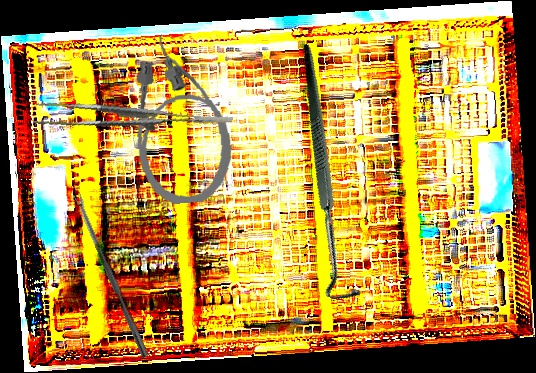Cannula: (127, 29, 237, 207)
Hook Surgical: (223, 43, 437, 308)
Surgical Spoon: (73, 191, 150, 359)
Tissue Forceps: (33, 83, 233, 157)
